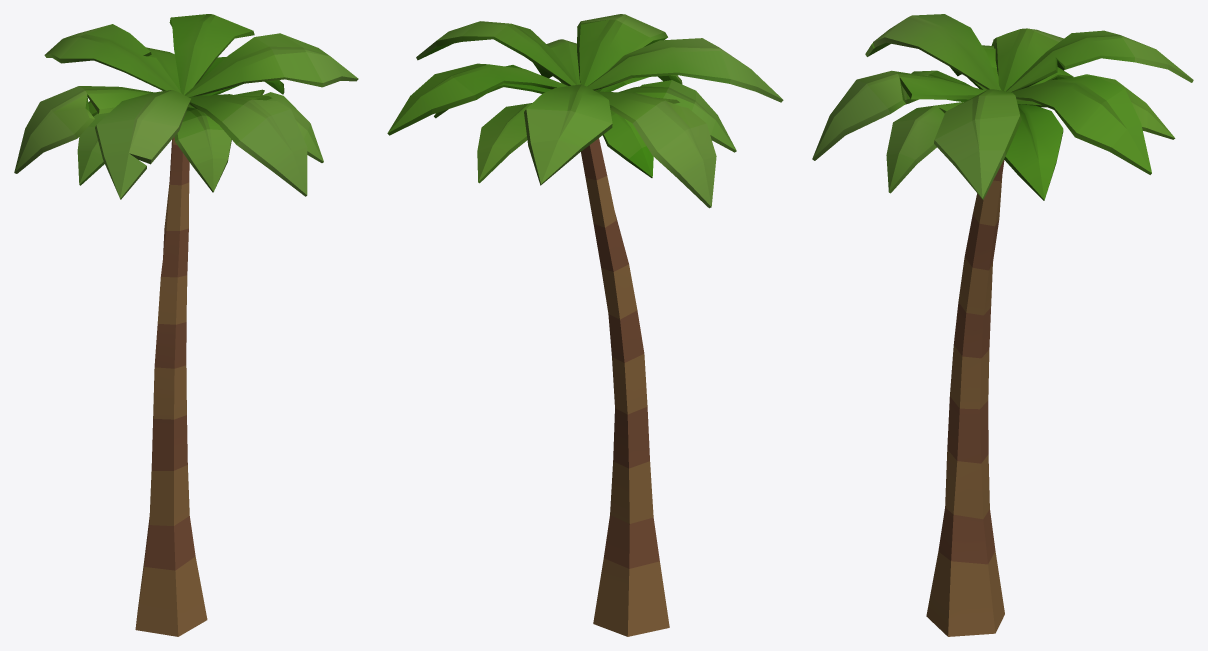
Rendered from Anim_PalmTree_Colour.fbx.
3 views of the same model, side by side, from view 1: azimuth 30°, elevation 25°; view 2: azimuth 150°, elevation 25°; view 3: azimuth 270°, elevation 25° (orthographic). The views are drawn at different scales.
Parts seen in each view (by area): view 1: Anim_PalmTree_Colour; view 2: Anim_PalmTree_Colour; view 3: Anim_PalmTree_Colour.
Boxes of the visible parts, <box> form: Anim_PalmTree_Colour: <box>14,14,358,636</box>; Anim_PalmTree_Colour: <box>387,14,783,636</box>; Anim_PalmTree_Colour: <box>812,14,1193,636</box>.
Size of the model in its own units: 6.96 by 11.54 by 6.85.
